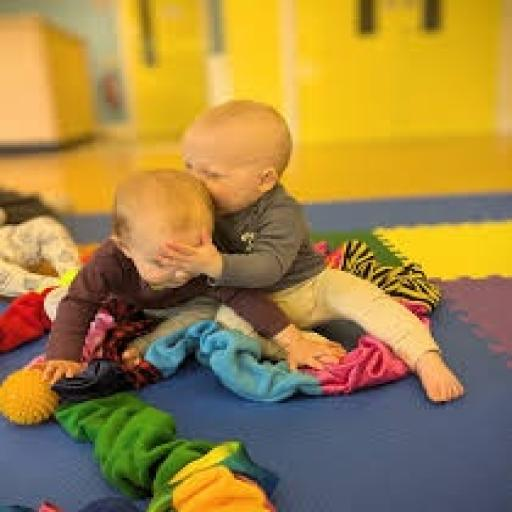baby: (161, 101, 463, 401), (44, 171, 302, 383)
